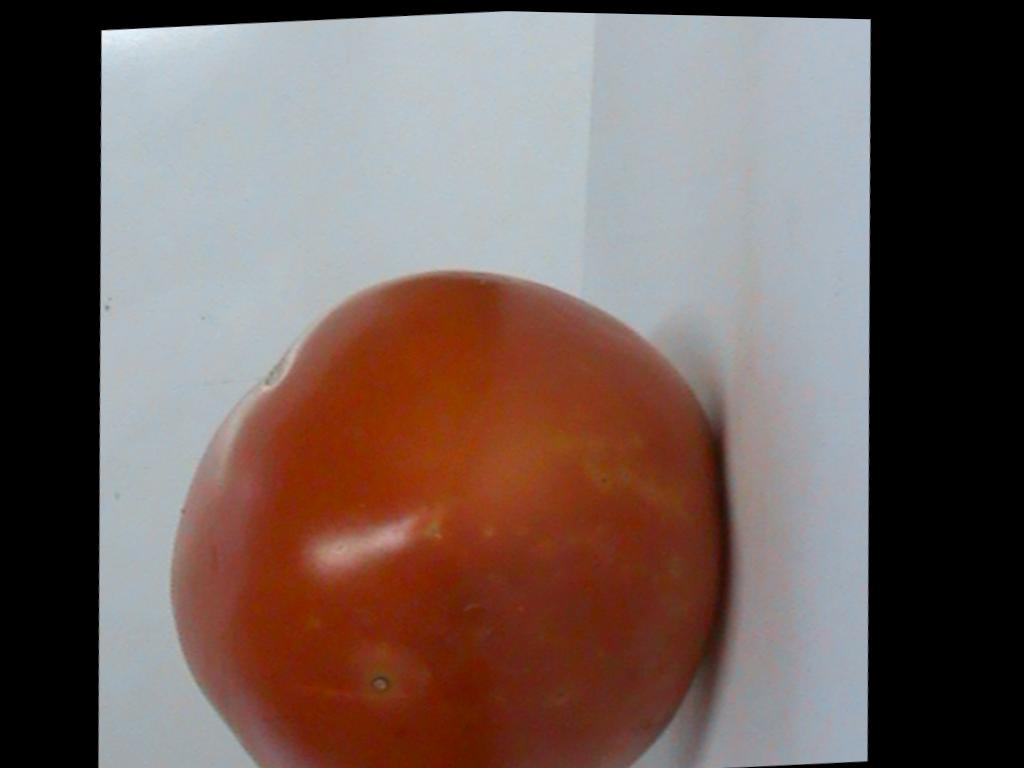surface_damage: (368, 675, 390, 696)
tomato: (171, 272, 719, 768)
